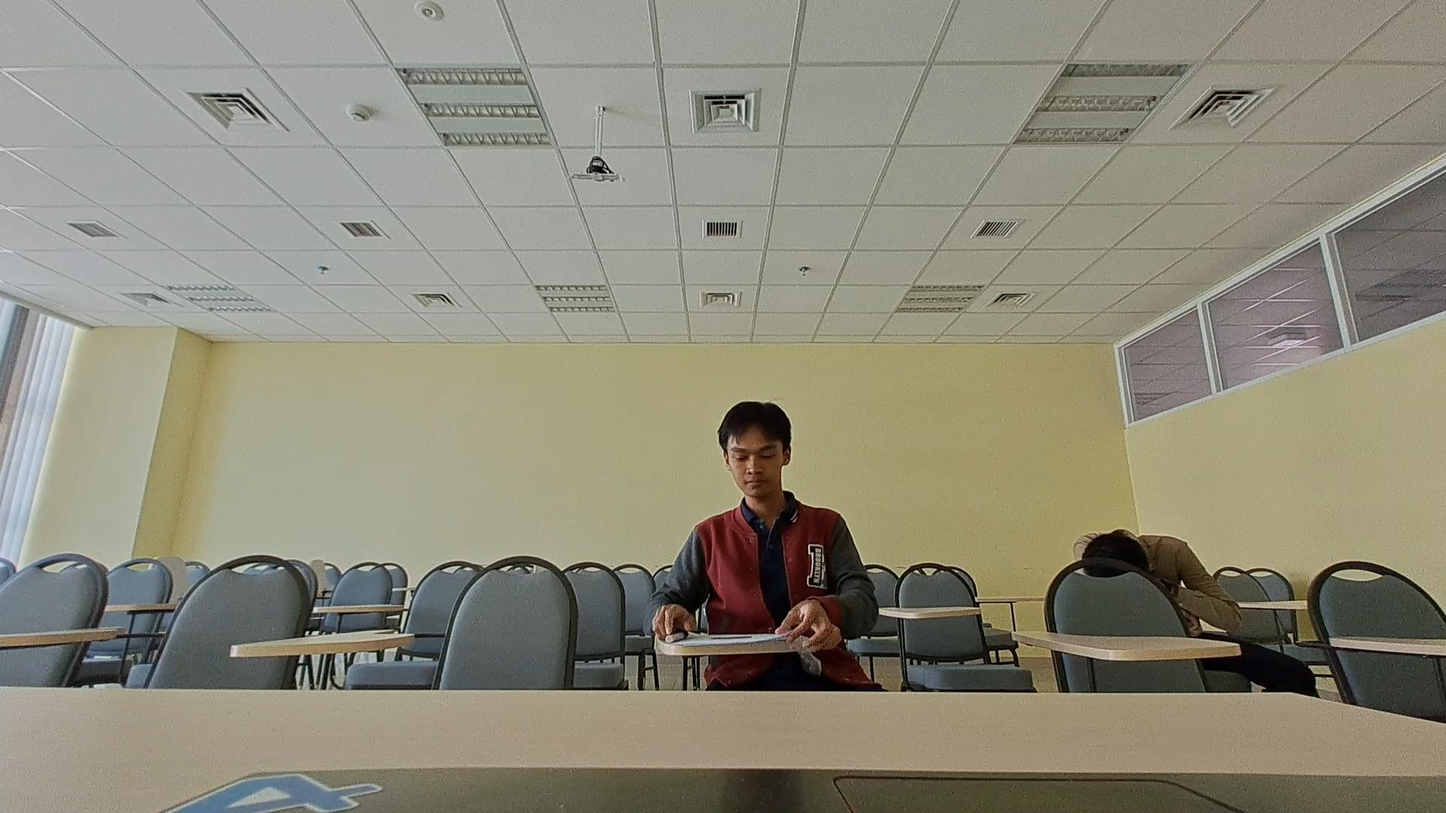sleep: (1077, 527, 1248, 651)
study: (653, 395, 868, 693)
